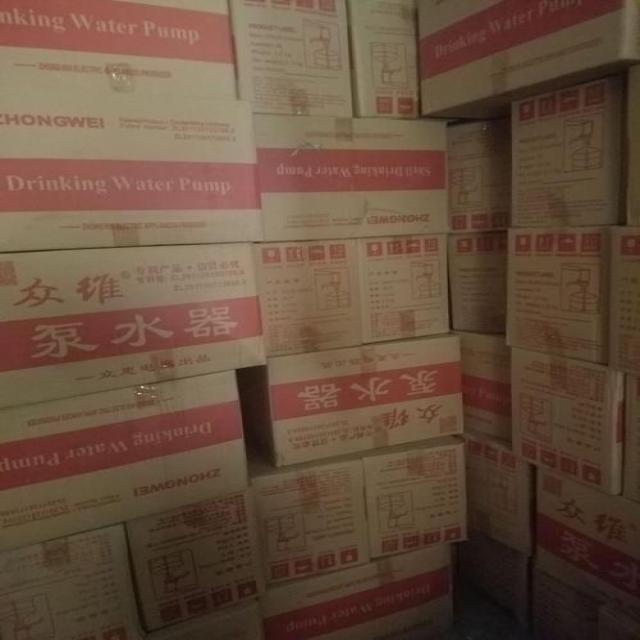box: (0, 372, 248, 554), (0, 91, 269, 249), (242, 337, 465, 468), (419, 0, 639, 124), (257, 111, 450, 238), (253, 233, 449, 358), (0, 0, 235, 96), (120, 488, 264, 639), (264, 540, 467, 637), (245, 440, 369, 593), (506, 346, 622, 502), (507, 79, 626, 230), (0, 525, 146, 639), (506, 226, 609, 366), (531, 468, 639, 601), (228, 1, 350, 117), (359, 435, 465, 563), (531, 550, 639, 639), (349, 1, 421, 117), (465, 436, 537, 552), (465, 537, 535, 638), (450, 119, 512, 233), (445, 231, 507, 330), (458, 328, 509, 440), (146, 599, 272, 639), (609, 226, 639, 372), (621, 370, 639, 511), (623, 69, 638, 226)
